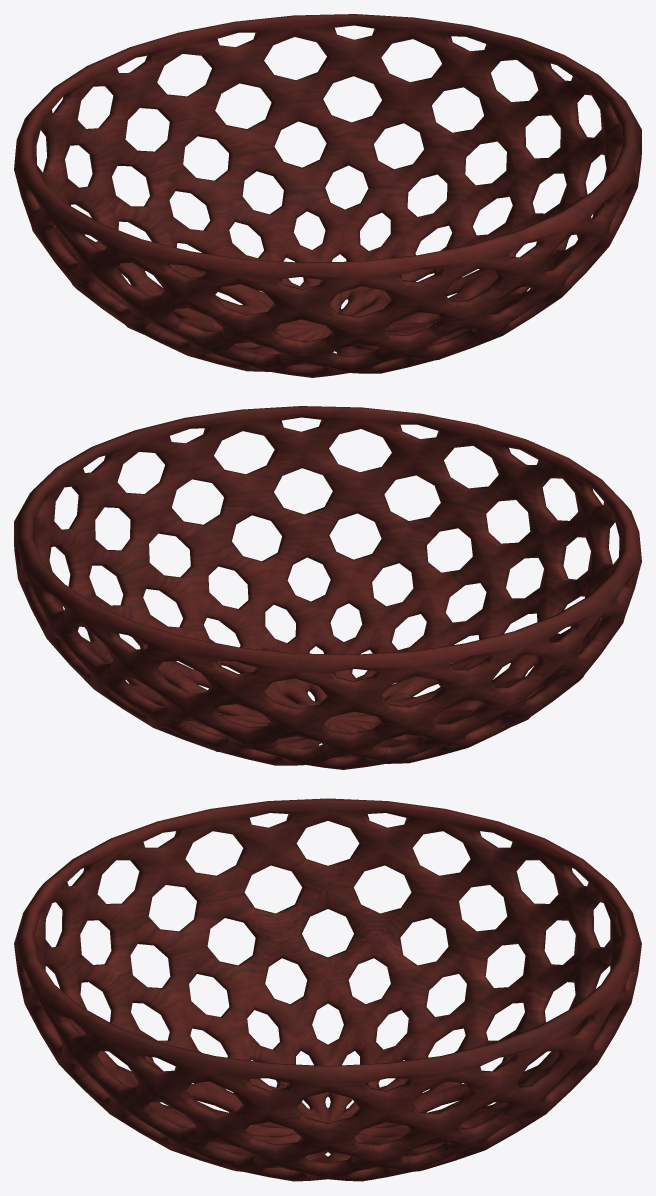
File: 洗菜藍.fbx
3 views of the same model, one above another, from view 1: azimuth 30°, elevation 25°; view 2: azimuth 150°, elevation 25°; view 3: azimuth 270°, elevation 25° (orthographic). The views are drawn at different scales.
Visible parts, largest first — view 1: Sphere; view 2: Sphere; view 3: Sphere.
Boxes of the visible parts, x1,y1,x2,y2 form: Sphere: [14, 14, 641, 377]; Sphere: [14, 406, 641, 769]; Sphere: [14, 798, 641, 1181].
Size of the model in its own units: 37.35 by 12.96 by 35.46.
